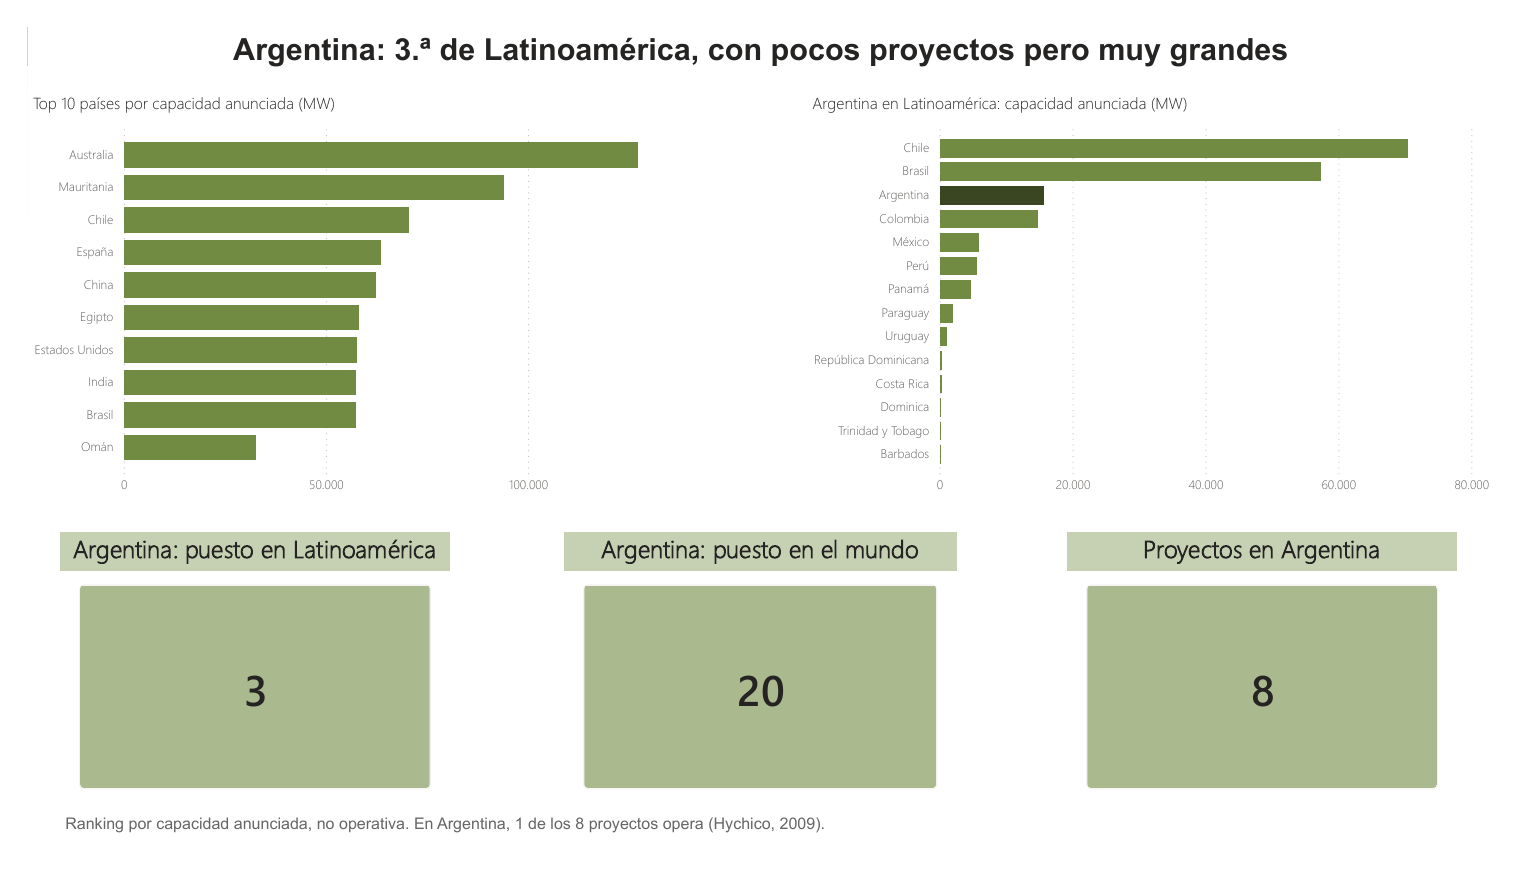

This screenshot's page, from the dashboard's own definition file:
{"tool":"powerbi","page":{"name":"Países y Argentina","canvas":[1280,720],"ordinal":2},"visuals":[{"type":"barChart","title":"Top 10 países por capacidad anunciada (MW)","fields":{"Category":["P7 Ranking.pais"],"Y":["Max(P7 Ranking.mwel)"]},"box":[0,56.7,600.7,359.5],"z":0},{"type":"clusteredBarChart","title":"Argentina en Latinoamérica: capacidad anunciada (MW)","fields":{"Category":["P8 Latam.pais"],"Y":["Max(P8 Latam.mwel)"]},"box":[680.1,56.7,600.7,359.5],"z":1000},{"type":"cardVisual","title":"Argentina: puesto en Latinoamérica","fields":{"Data":["Max(P8 Latam.puesto_latam)"]},"box":[27.5,440.4,341.7,241.3],"z":2000},{"type":"cardVisual","title":"Argentina: puesto en el mundo","fields":{"Data":["Max(P8 Latam.puesto_mundial)"]},"box":[468,440.4,343.3,241.3],"z":3000},{"type":"cardVisual","title":"Proyectos en Argentina","fields":{"Data":["Max(P8 Latam.proyectos)"]},"box":[906.8,440.4,341.7,241.3],"z":4000},{"type":"textbox","box":[27.5,681.7,710.8,38.9],"z":5000},{"type":"textbox","box":[137.6,0,1003.9,56.7],"z":6000}]}

Visuals, with their boxes in screenshot pixels (x1, y1, x2, y2), scaled from the page's 1280x720 canvas onto the 1522x880 screenshot:
"Top 10 países por capacidad anunciada (MW)" barChart: <bbox>0, 69, 714, 509</bbox>
"Argentina en Latinoamérica: capacidad anunciada (MW)" clusteredBarChart: <bbox>809, 69, 1521, 509</bbox>
"Argentina: puesto en Latinoamérica" cardVisual: <bbox>33, 538, 439, 833</bbox>
"Argentina: puesto en el mundo" cardVisual: <bbox>556, 538, 965, 833</bbox>
"Proyectos en Argentina" cardVisual: <bbox>1078, 538, 1485, 833</bbox>
textbox: <bbox>33, 833, 878, 879</bbox>
textbox: <bbox>164, 0, 1357, 69</bbox>
